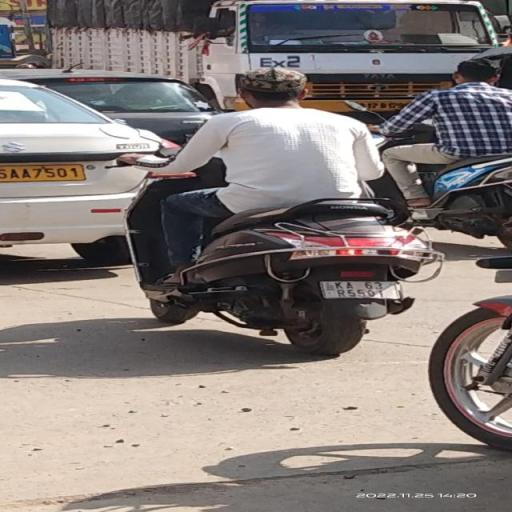bike: (104, 61, 448, 356)
numberplate: (318, 281, 400, 298)
withouthelmet: (241, 68, 308, 106)
